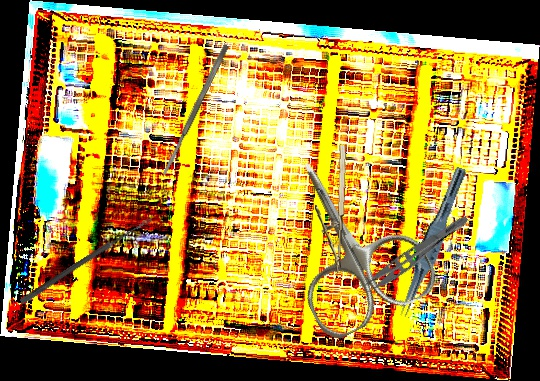Iris Scissors: (251, 134, 443, 345)
Needle Holder: (310, 143, 350, 274)
Spatula Surgical: (159, 43, 231, 177)
Surgical Spoon: (19, 215, 153, 306)
Tissue Forceps: (395, 163, 468, 321), (353, 205, 471, 302)
